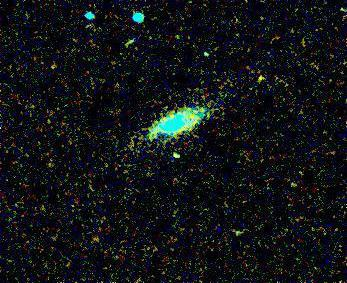star: (253, 62, 283, 92)
